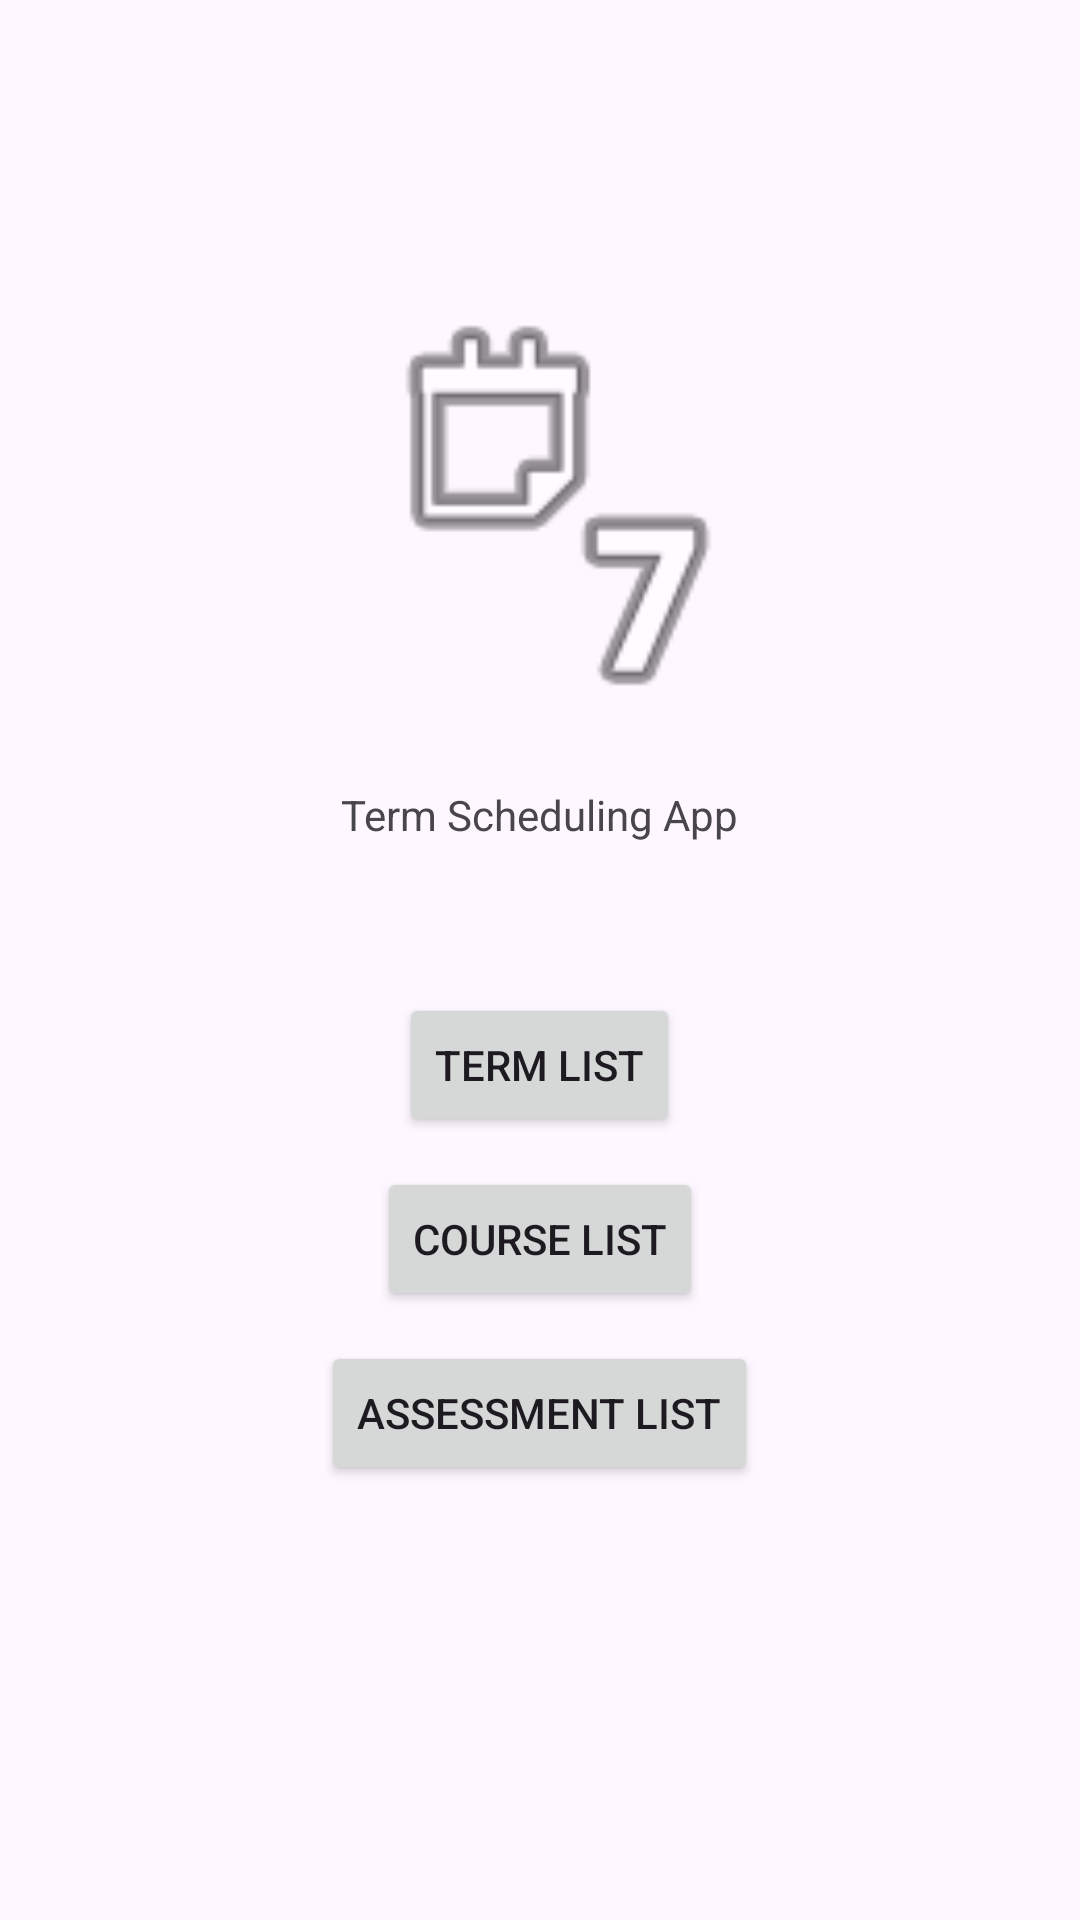

Where to tap for icons on this 1080 × 1920 app screen, as point (x, y):
week: point (558, 505)
